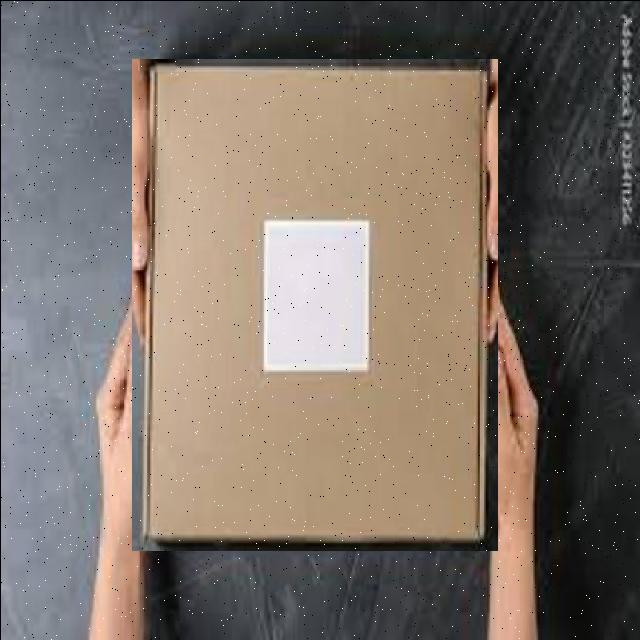normal: (131, 58, 497, 550)
